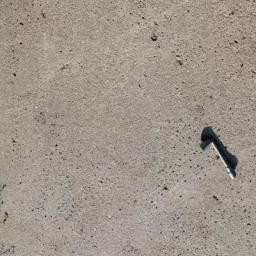FOD: (195, 125, 241, 184)
